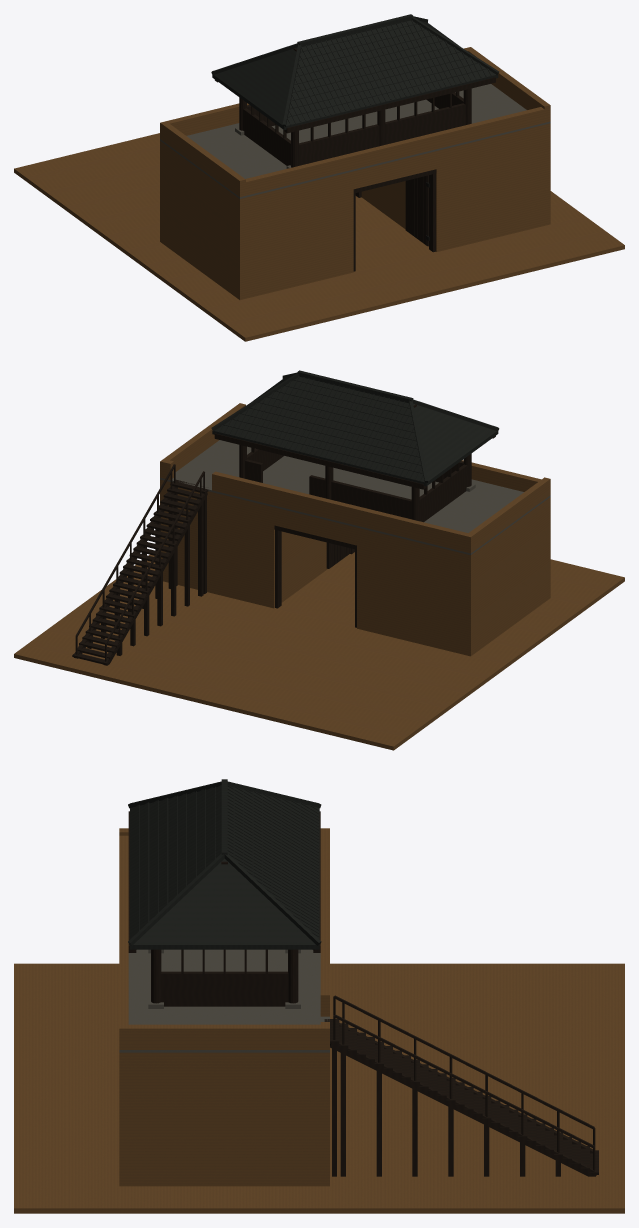
Rendered from xiaoyuan-LOD0.glb.
3 renders of one model, top to bottom at view 1: azimuth 30°, elevation 25°; view 2: azimuth 150°, elevation 25°; view 3: azimuth 270°, elevation 25°, orthographic. The views are drawn at different scales.
Visible parts, largest first — view 1: BATCH_LY_P01_earth__TEX256, BATCH_LY_P01_tile__TEX256, BATCH_LY_P01_timber__TEX256, BATCH_LY_P01_stone__TEX256; view 2: BATCH_LY_P01_earth__TEX256, BATCH_LY_P01_timber__TEX256, BATCH_LY_P01_tile__TEX256, BATCH_LY_P01_stone__TEX256; view 3: BATCH_LY_P01_earth__TEX256, BATCH_LY_P01_tile__TEX256, BATCH_LY_P01_timber__TEX256, BATCH_LY_P01_stone__TEX256.
Part boxes in pixels (left/top/right/bottom): BATCH_LY_P01_earth__TEX256: left=14, top=47, right=624, bottom=341; BATCH_LY_P01_tile__TEX256: left=211, top=14, right=499, bottom=129; BATCH_LY_P01_timber__TEX256: left=214, top=48, right=495, bottom=271; BATCH_LY_P01_stone__TEX256: left=160, top=84, right=550, bottom=198; BATCH_LY_P01_earth__TEX256: left=14, top=403, right=624, bottom=750; BATCH_LY_P01_timber__TEX256: left=72, top=404, right=495, bottom=665; BATCH_LY_P01_tile__TEX256: left=211, top=370, right=499, bottom=486; BATCH_LY_P01_stone__TEX256: left=160, top=440, right=550, bottom=555; BATCH_LY_P01_earth__TEX256: left=14, top=828, right=624, bottom=1213; BATCH_LY_P01_tile__TEX256: left=128, top=779, right=321, bottom=949; BATCH_LY_P01_timber__TEX256: left=128, top=811, right=598, bottom=1176; BATCH_LY_P01_stone__TEX256: left=119, top=949, right=329, bottom=1052.
Size of the model in its own units: 22 by 11.53 by 23.2.
5 materials, 5 textured.
